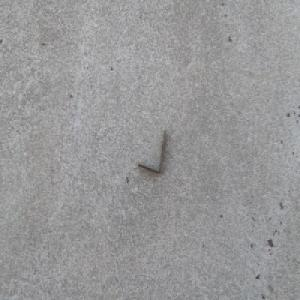MetalPart: (138, 129, 166, 174)
